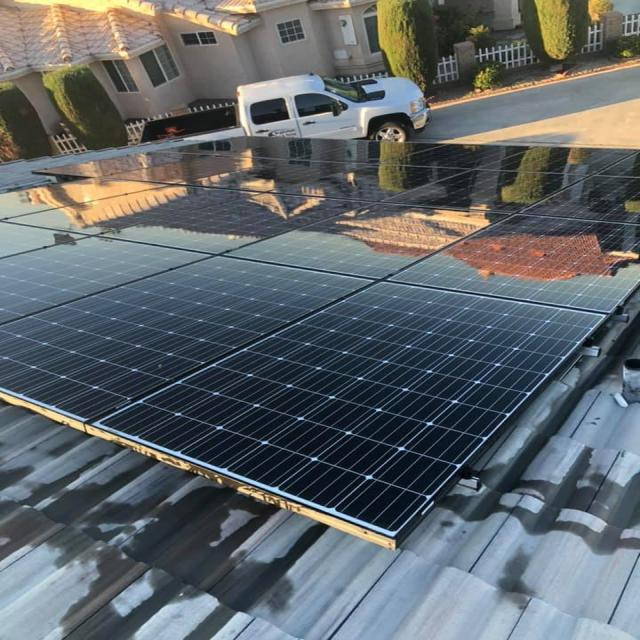clean-solar-panel: (3, 138, 638, 546)
